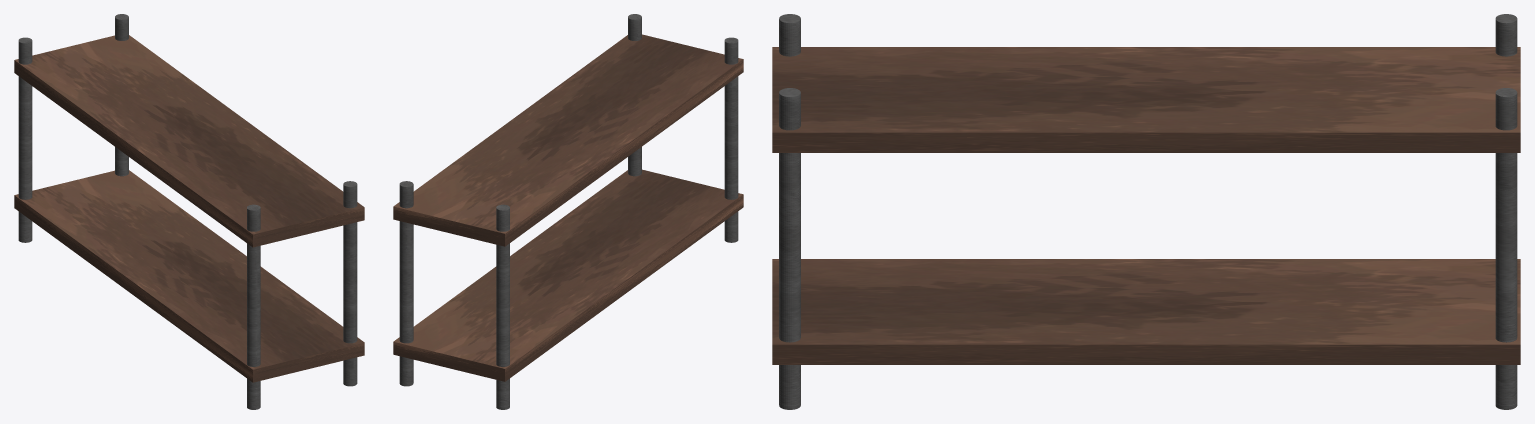
The model's file is Regal.fbx.
The picture shows the model from 3 angles, left to right: view 1: azimuth 30°, elevation 25°; view 2: azimuth 150°, elevation 25°; view 3: azimuth 270°, elevation 25°; orthographic projection. The views are drawn at different scales.
Parts seen in each view (by area): view 1: Cube.004; view 2: Cube.004; view 3: Cube.004.
Boxes of the visible parts, bbox=[...] form: Cube.004: bbox=[14, 14, 364, 409]; Cube.004: bbox=[393, 14, 743, 409]; Cube.004: bbox=[772, 14, 1520, 409].
Size of the model in its own units: 218 by 371 by 804.
Materials: 1 (1 with a texture image).
